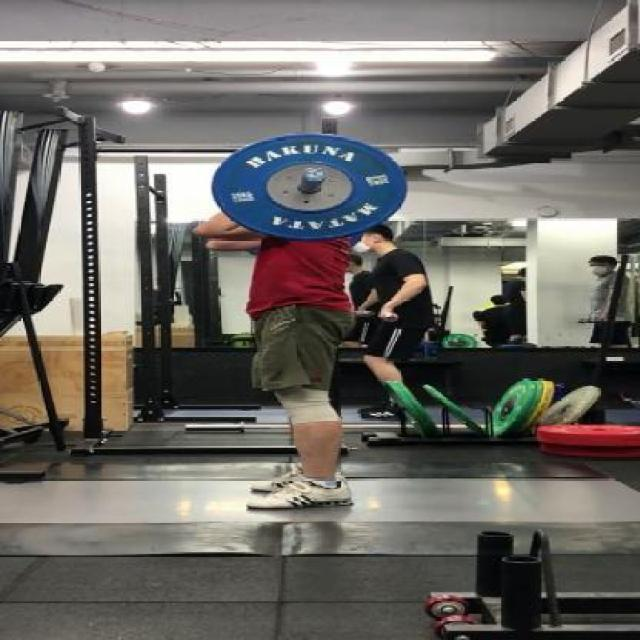barbell: (205, 128, 415, 244)
